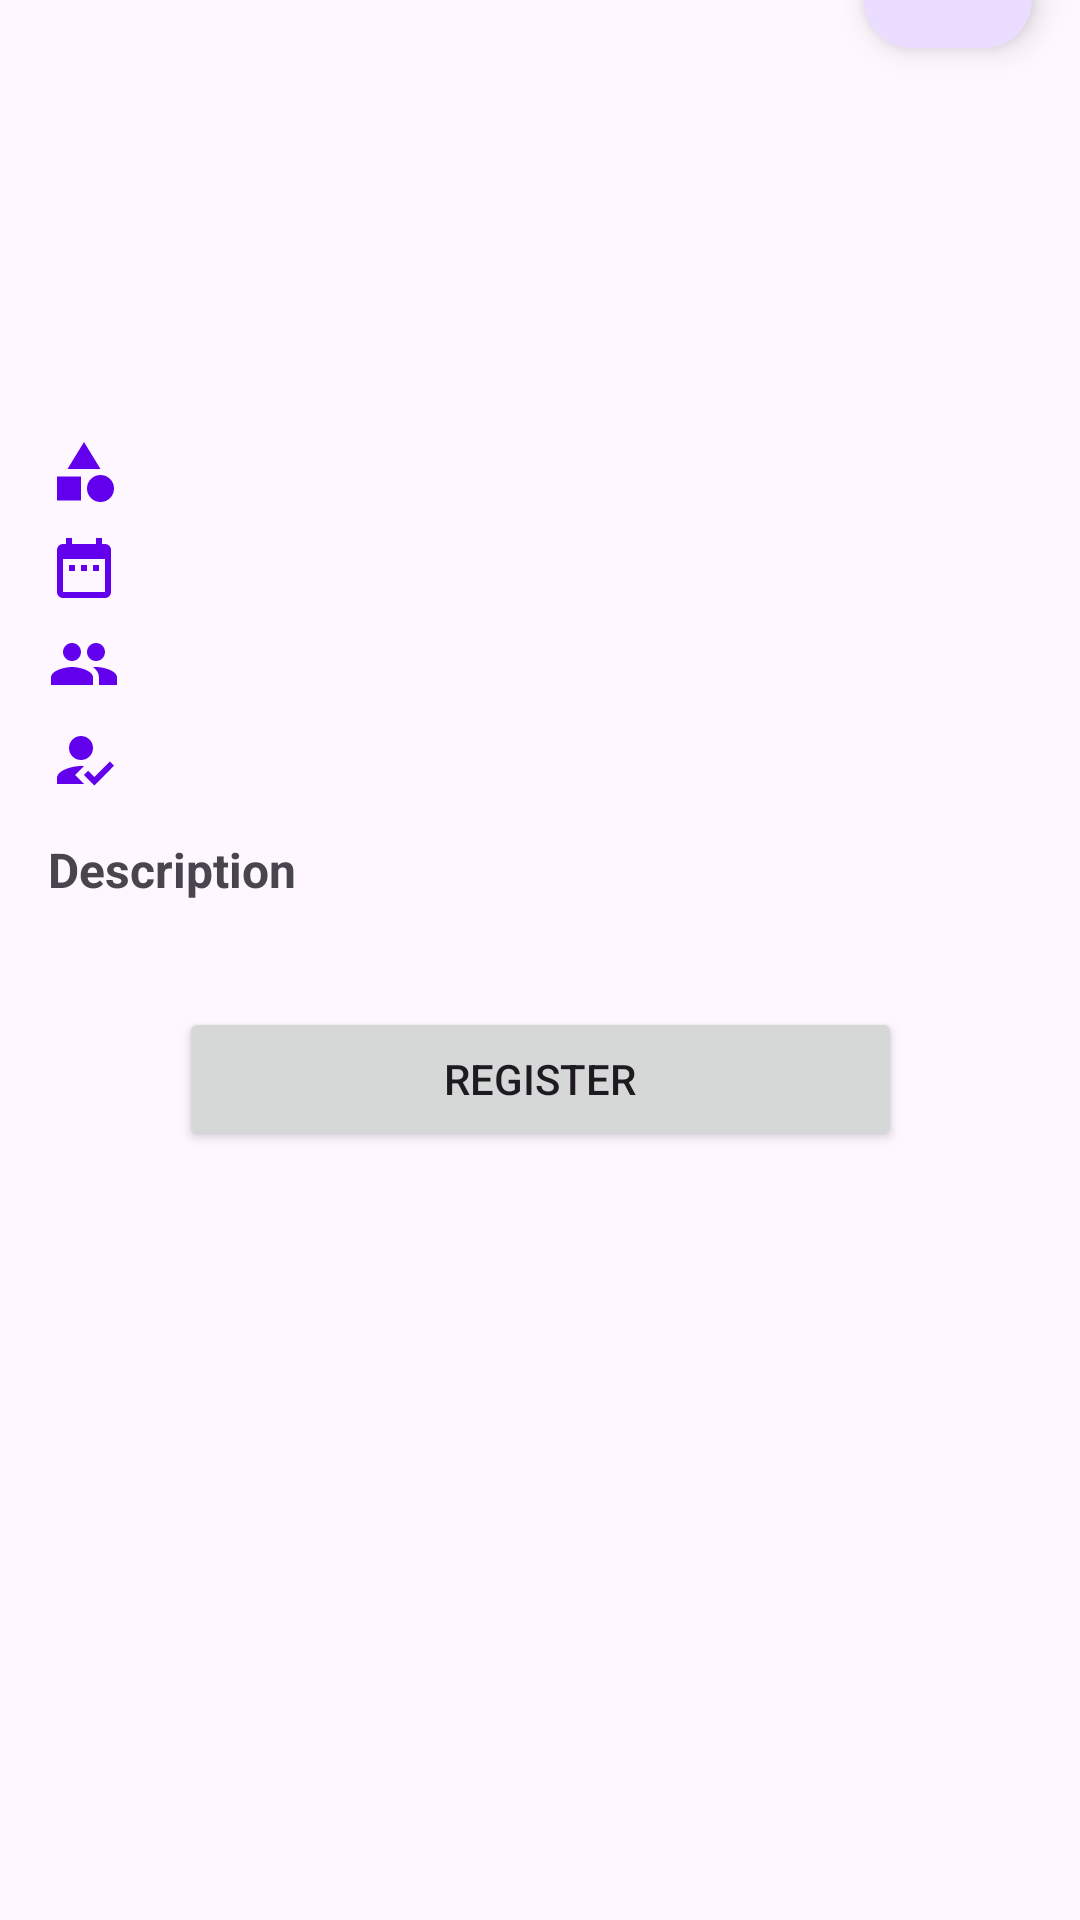

Icon bounding boxes for this 1080×1920 phone screenshot, format rect(x1, y1, x2, y2):
category: rect(57, 442, 114, 502)
date range: rect(57, 538, 111, 598)
how to reg: rect(57, 736, 114, 786)
people: rect(51, 643, 117, 685)
